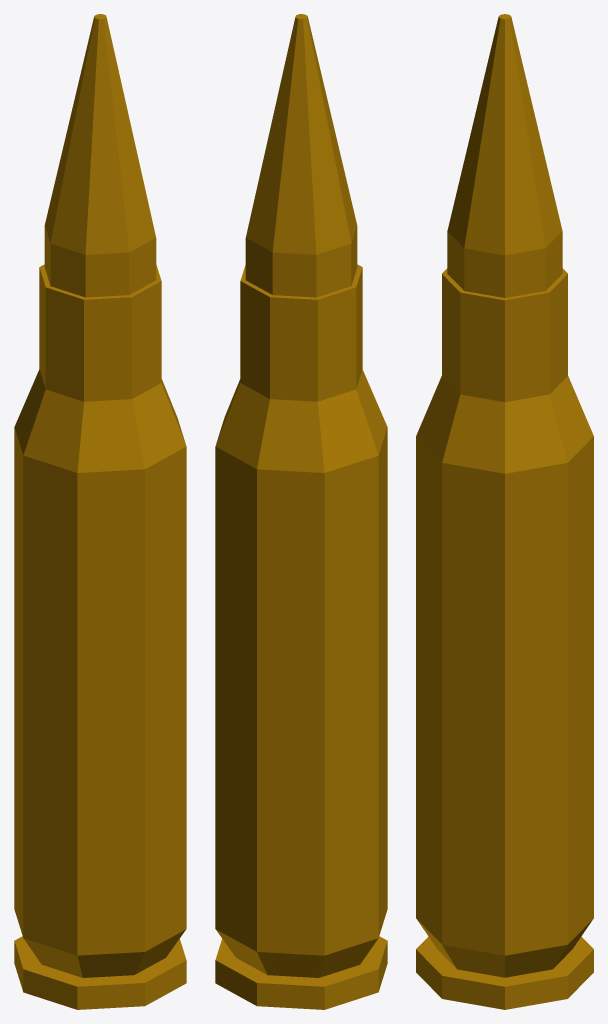
File: 7.62x51mm_Item.glb
The picture shows the model from 3 angles, left to right: view 1: azimuth 30°, elevation 25°; view 2: azimuth 150°, elevation 25°; view 3: azimuth 270°, elevation 25°; orthographic projection.
Visible parts, largest first — view 1: 7.62x51 mag.002; view 2: 7.62x51 mag.002; view 3: 7.62x51 mag.002.
Boxes of the visible parts, x1,y1,x2,y2 form: 7.62x51 mag.002: [14, 14, 186, 1009]; 7.62x51 mag.002: [215, 14, 387, 1009]; 7.62x51 mag.002: [416, 14, 593, 1009].
Size of the model in its own units: 0.1177 by 0.6976 by 0.1177.
